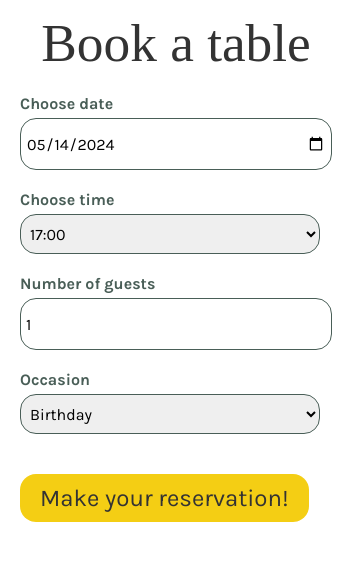
Test case: Booking form › shows an error message when number of guests is not selected
Clear the number field labelled "Number of guests" at (176, 324), box [20, 298, 332, 350]
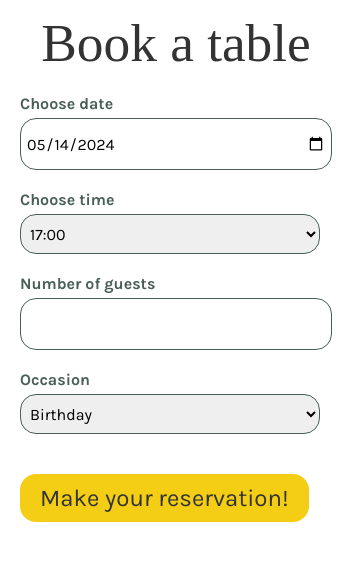
Click the button.
click(164, 498)  # box [20, 474, 309, 522]
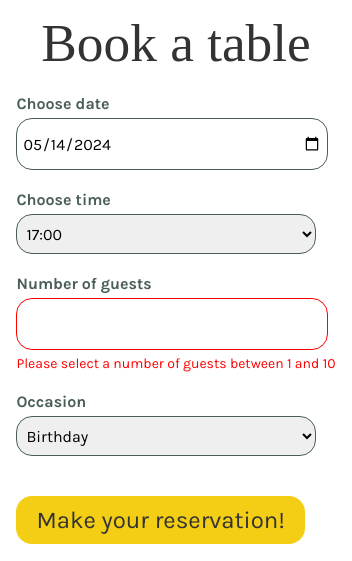
Now the text "Please select a number of guests between 1 and 10" is shown, box [16, 355, 336, 372]
